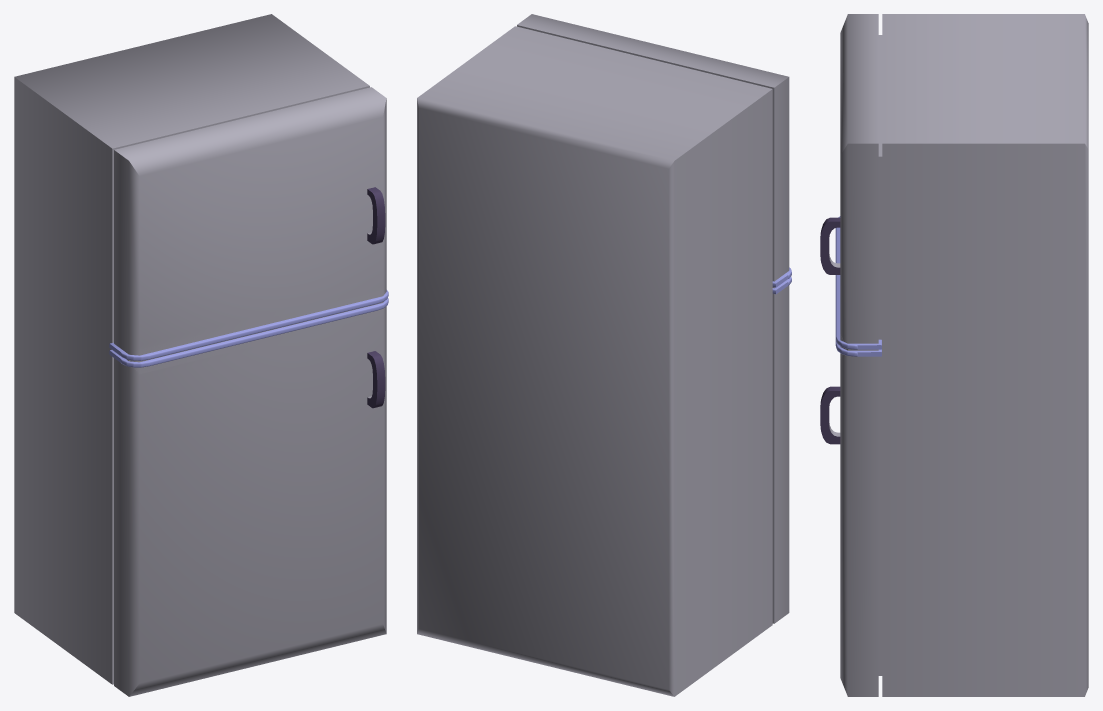
The model's file is fridge.fbx.
3 renders of one model, left to right at view 1: azimuth 30°, elevation 25°; view 2: azimuth 150°, elevation 25°; view 3: azimuth 270°, elevation 25°, orthographic. The views are drawn at different scales.
Parts seen in each view (by area): view 1: Cube; view 2: Cube; view 3: Cube.
Part boxes in pixels (bbox=[...]): Cube: bbox=[14, 14, 388, 696]; Cube: bbox=[417, 14, 791, 696]; Cube: bbox=[820, 14, 1088, 696].
Size of the model in its own units: 184 by 355 by 156.
